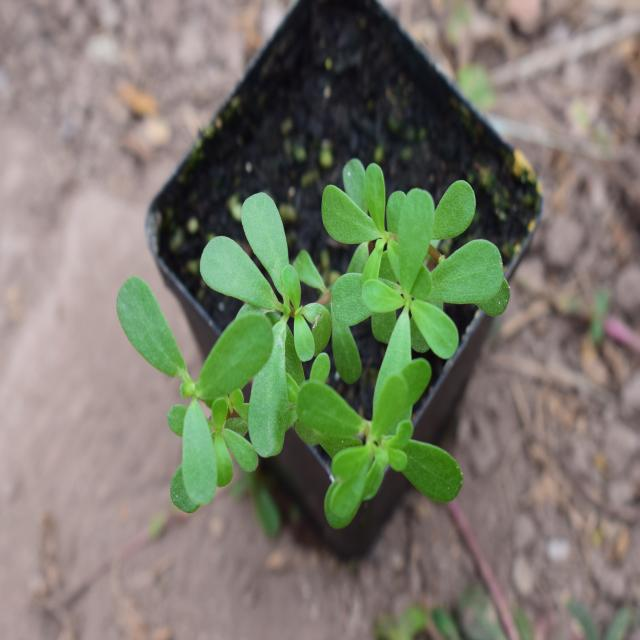purslane: (96, 144, 542, 542)
